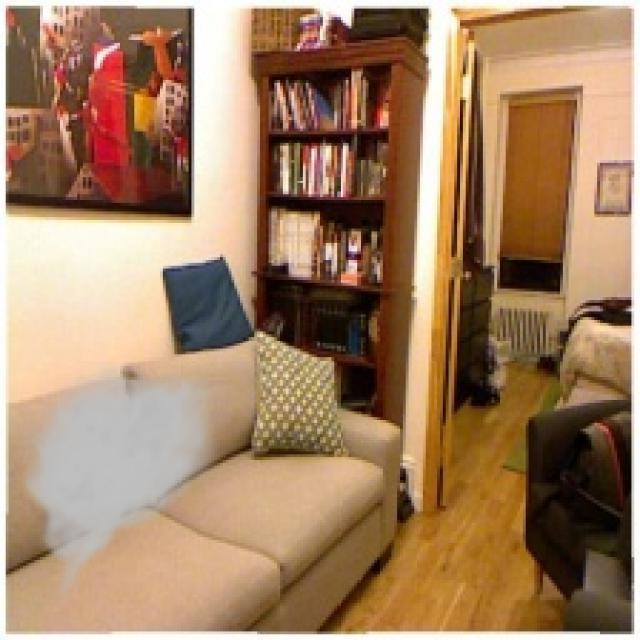Smoke: (14, 361, 229, 608)
